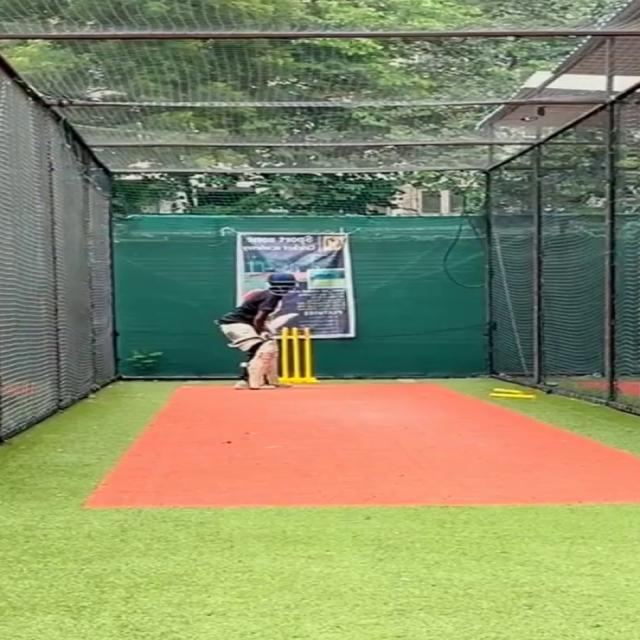stump: (279, 327, 315, 382)
